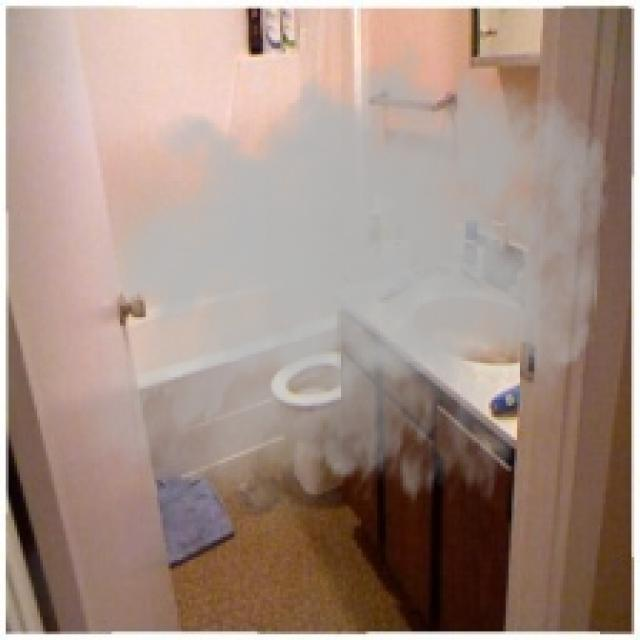Smoke: (63, 26, 612, 563)
